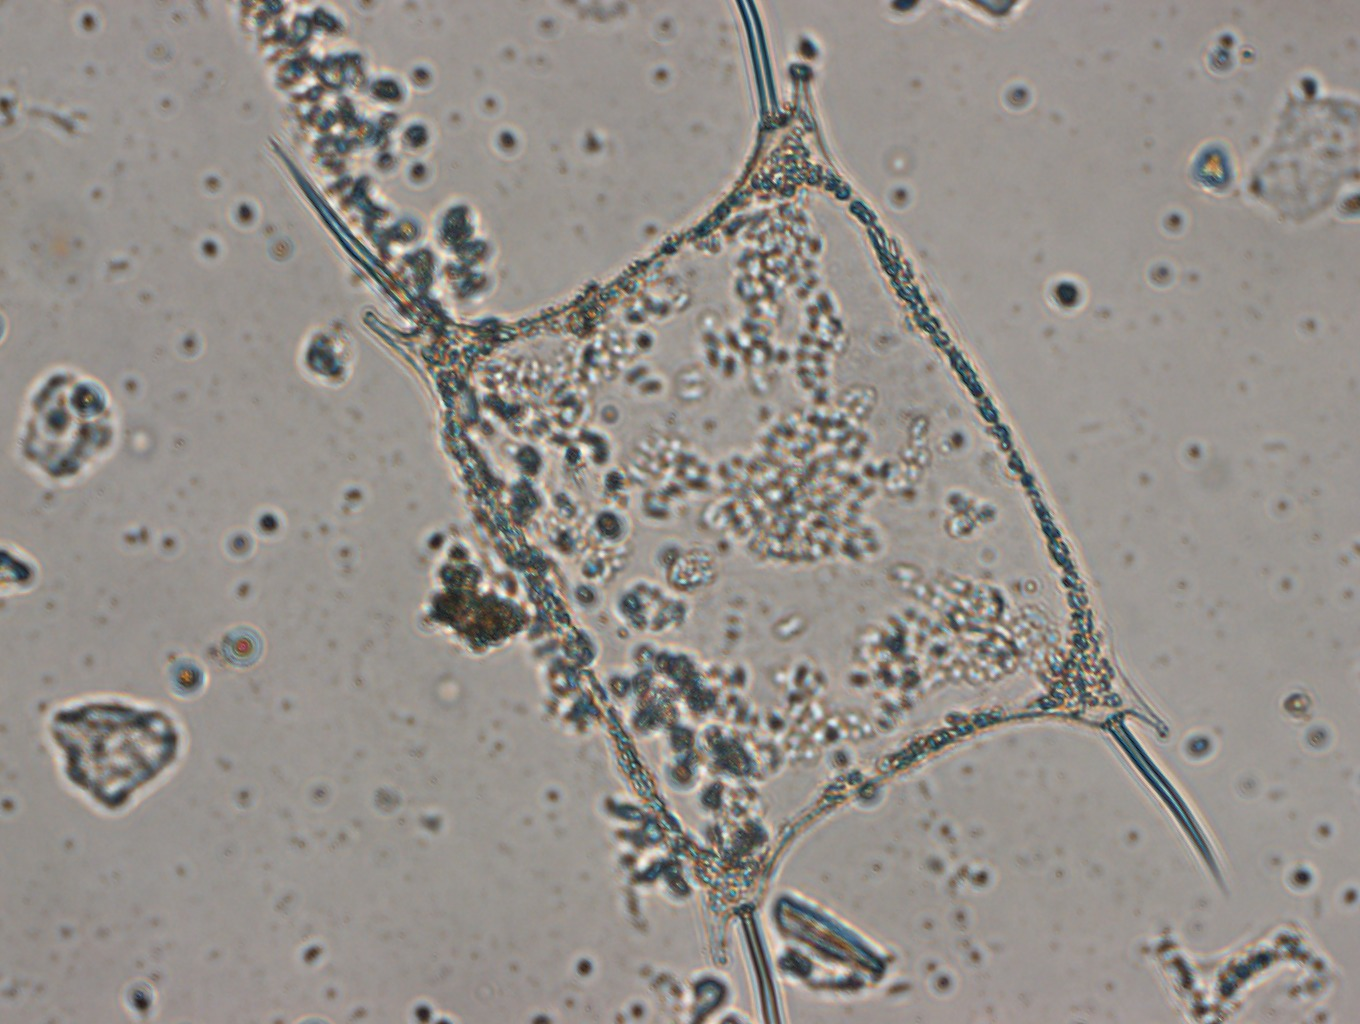biddulphia: (264, 1, 1225, 1024)
